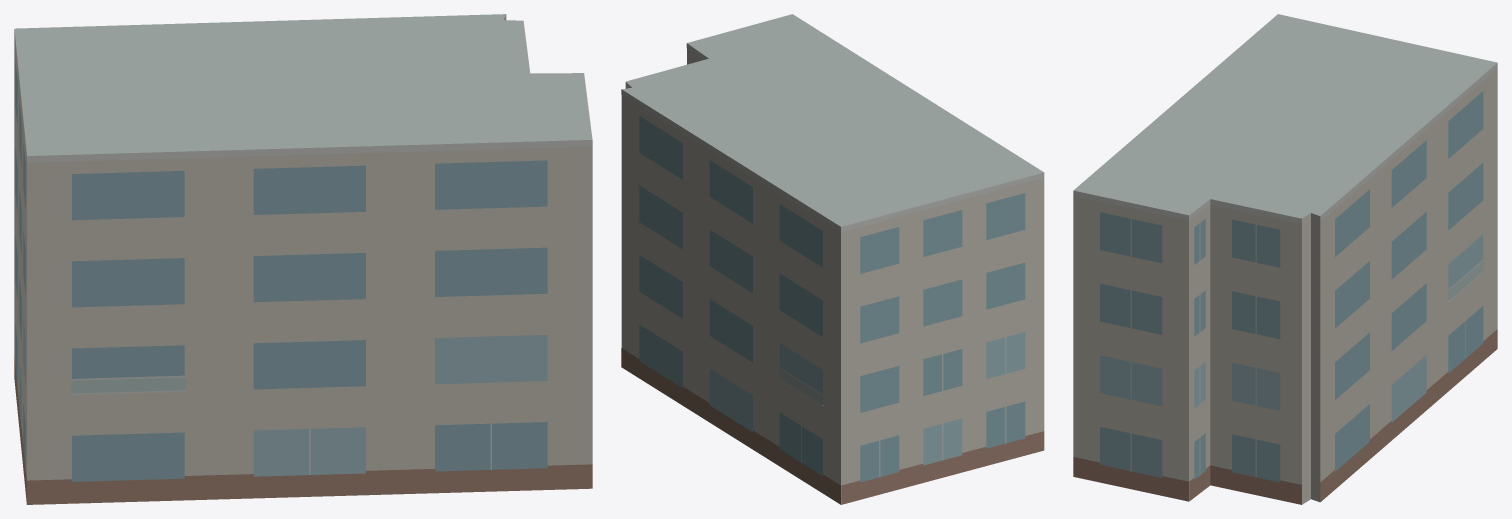
The model's file is survey-upis-32994259.glb.
3 views of the same model, side by side, from view 1: azimuth 30°, elevation 25°; view 2: azimuth 150°, elevation 25°; view 3: azimuth 270°, elevation 25° (orthographic). The views are drawn at different scales.
Parts seen in each view (by area): view 1: survey-upis-32994259.tmp; view 2: survey-upis-32994259.tmp; view 3: survey-upis-32994259.tmp.
Part boxes in pixels (x1,y1,x2,y2): survey-upis-32994259.tmp: (14, 14, 592, 504); survey-upis-32994259.tmp: (621, 14, 1044, 504); survey-upis-32994259.tmp: (1073, 14, 1497, 504).
Size of the model in its own units: 19.64 by 12.8 by 17.21.
